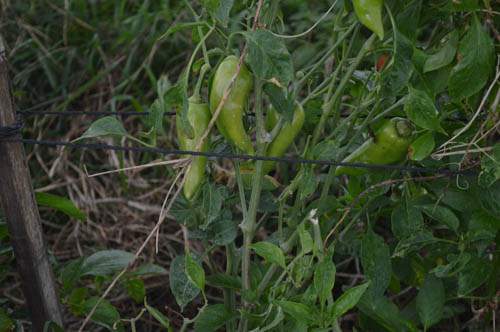ChiliPepper: (338, 122, 414, 180), (177, 104, 208, 194), (219, 57, 248, 151), (265, 99, 298, 173)
